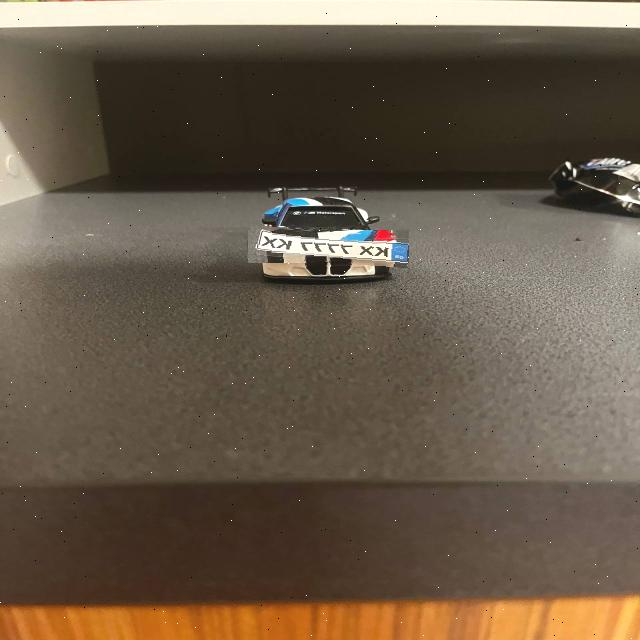KX 7777 KX: (248, 226, 409, 268)
